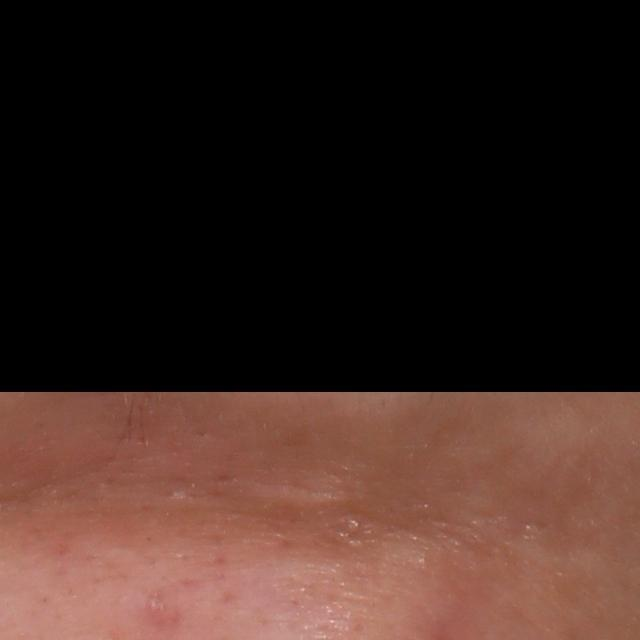hypertrophic_scar: (232, 473, 356, 516)
